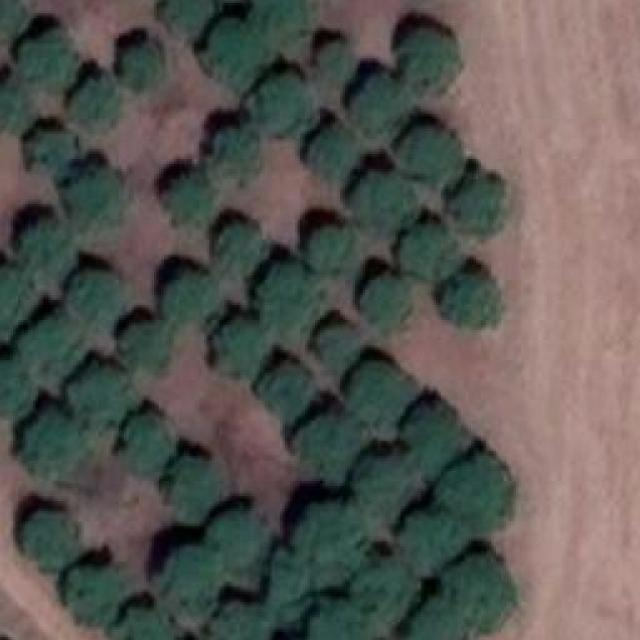Tree: (298, 504, 371, 575), (66, 167, 127, 241), (446, 459, 509, 529), (446, 556, 506, 627), (157, 543, 217, 612), (61, 564, 122, 628), (352, 451, 411, 516), (395, 511, 454, 575), (202, 21, 263, 82), (395, 129, 456, 189), (265, 265, 323, 328), (295, 413, 358, 471), (395, 31, 454, 92), (355, 172, 411, 236), (403, 403, 457, 469), (159, 458, 219, 516), (23, 411, 77, 474), (65, 365, 124, 421), (348, 362, 404, 421), (209, 511, 265, 570), (16, 219, 70, 280), (122, 418, 177, 476), (252, 75, 306, 134), (348, 73, 402, 132), (23, 511, 77, 570), (400, 219, 456, 275), (28, 317, 82, 375), (451, 177, 506, 233), (162, 270, 217, 325), (23, 33, 77, 89), (209, 222, 263, 278), (209, 124, 260, 182), (212, 315, 263, 373), (162, 171, 212, 230), (444, 275, 497, 328), (260, 363, 313, 414), (73, 270, 122, 323), (114, 322, 167, 370), (308, 126, 361, 174), (363, 559, 409, 613), (360, 280, 409, 328), (310, 224, 355, 275), (265, 559, 308, 610), (74, 78, 112, 134), (31, 131, 75, 179), (212, 602, 266, 640), (313, 602, 366, 640), (255, 0, 310, 36), (315, 325, 358, 368), (114, 609, 171, 640), (122, 46, 162, 90), (408, 602, 452, 640), (0, 267, 30, 322), (0, 362, 30, 416), (318, 41, 361, 78), (167, 0, 210, 36), (0, 78, 26, 132)
